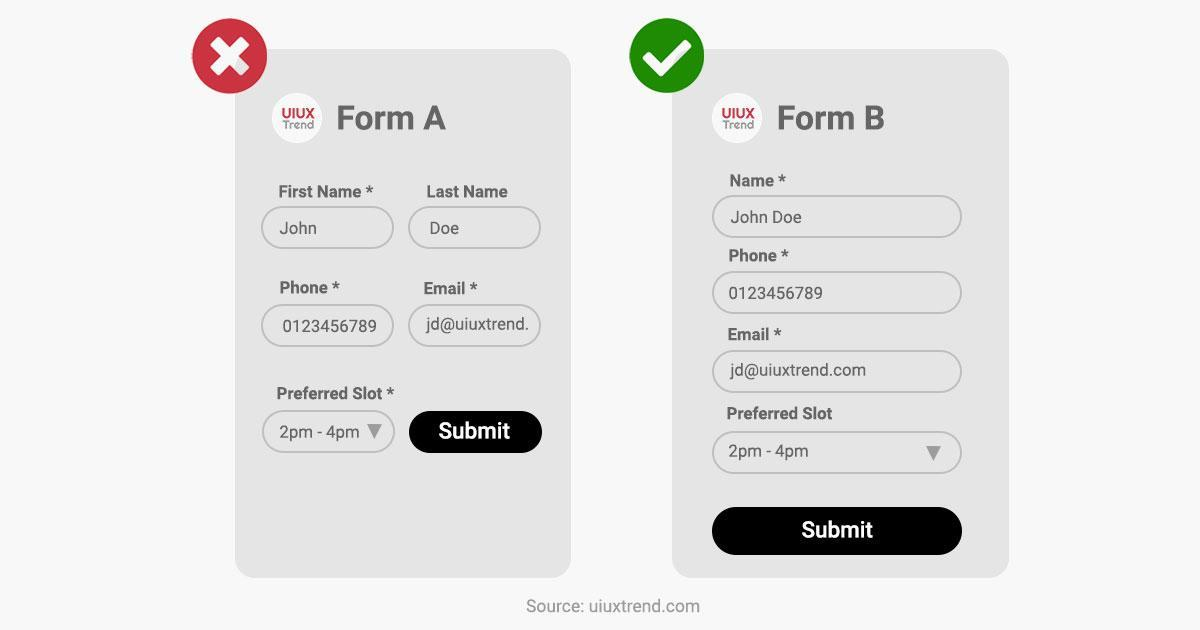button: (712, 505, 965, 559), (406, 408, 544, 457)
checkbox: (627, 17, 708, 99)
dropdown: (714, 434, 964, 475), (262, 410, 396, 455)
input: (712, 272, 961, 316), (713, 350, 962, 394), (713, 197, 962, 238), (407, 303, 542, 350), (262, 206, 396, 251), (410, 206, 542, 251), (263, 303, 398, 347)
label: (334, 101, 452, 141), (277, 377, 398, 408), (778, 104, 890, 137), (722, 402, 841, 430), (274, 180, 380, 204), (419, 183, 519, 203), (417, 276, 484, 301), (726, 245, 797, 268), (278, 276, 346, 300), (726, 169, 791, 191), (725, 324, 783, 347)
